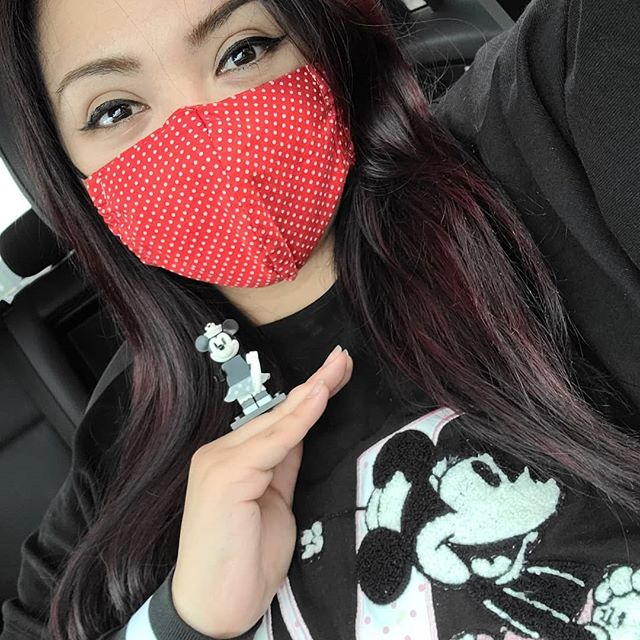homemade: (48, 97, 391, 298)
